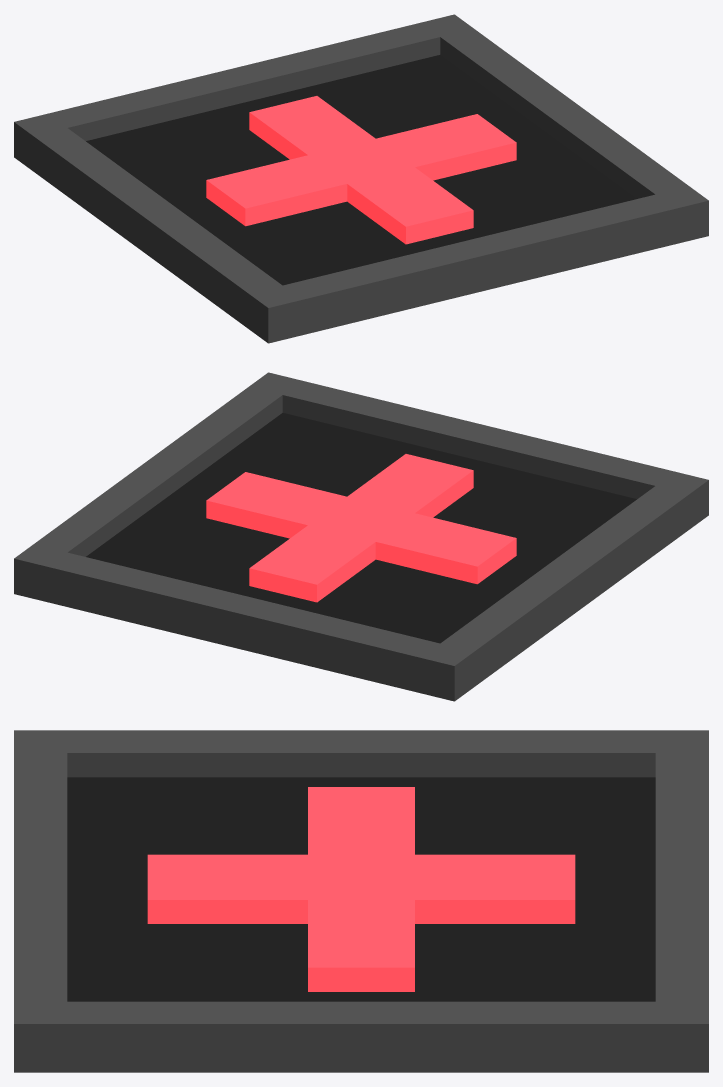
File: trap_CROSSHAIR_RED.glb
3 renders of one model, top to bottom at view 1: azimuth 30°, elevation 25°; view 2: azimuth 150°, elevation 25°; view 3: azimuth 270°, elevation 25°, orthographic. The views are drawn at different scales.
Parts seen in each view (by area): view 1: item_TRAP_CROSSHAIR_RED; view 2: item_TRAP_CROSSHAIR_RED; view 3: item_TRAP_CROSSHAIR_RED.
Boxes of the visible parts, bbox=[...] form: item_TRAP_CROSSHAIR_RED: bbox=[14, 14, 708, 343]; item_TRAP_CROSSHAIR_RED: bbox=[14, 372, 708, 701]; item_TRAP_CROSSHAIR_RED: bbox=[14, 730, 708, 1072].
Bounding box in the file's own units: 0.5909 × 0.0455 × 0.5909.
Materials: 1 (1 with a texture image).
